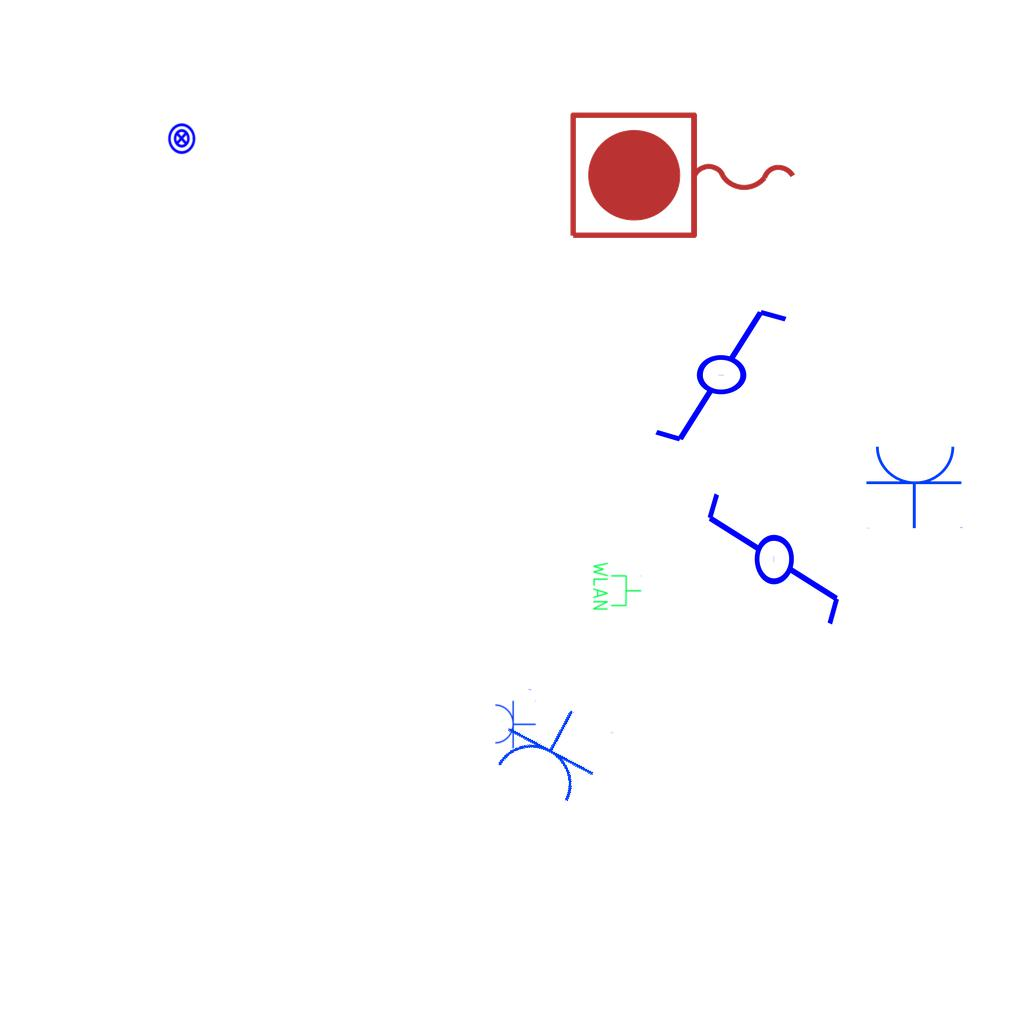Schukosteckdose_einfach: (486, 686, 616, 811), (865, 442, 965, 529), (493, 699, 536, 749)
Taster_beleuchtet: (165, 122, 198, 155)
WLAN: (591, 560, 643, 612)
Wechselschalter: (700, 489, 844, 646), (651, 305, 808, 449)
Zugtaster: (562, 105, 806, 249)
